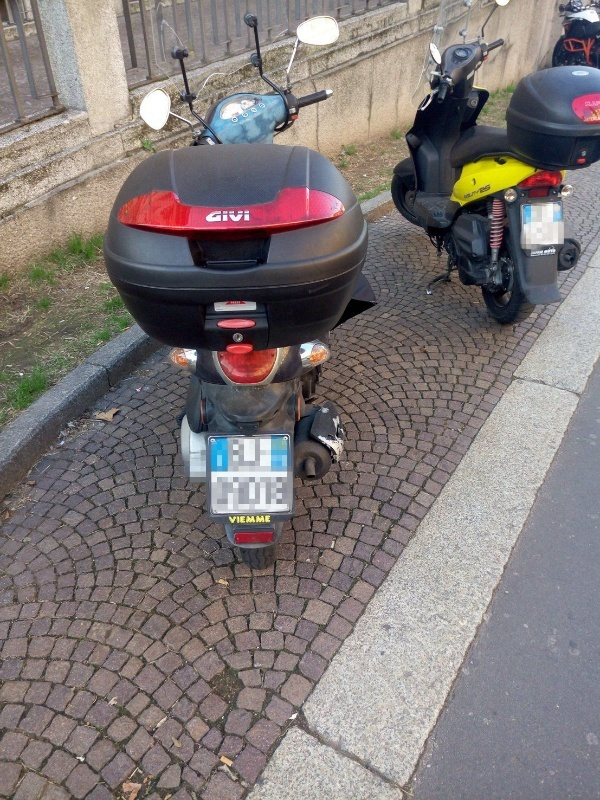text: (465, 184, 480, 201), (225, 210, 240, 223), (481, 184, 492, 201), (211, 210, 224, 223), (241, 515, 256, 524), (241, 210, 251, 223), (257, 515, 271, 524), (229, 515, 240, 524), (585, 100, 592, 107), (593, 100, 599, 107), (463, 184, 464, 201)
